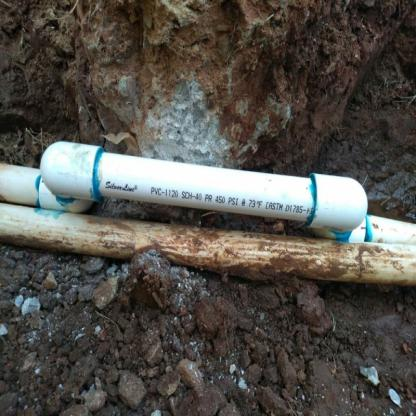PVC: (0, 71, 133, 155)
